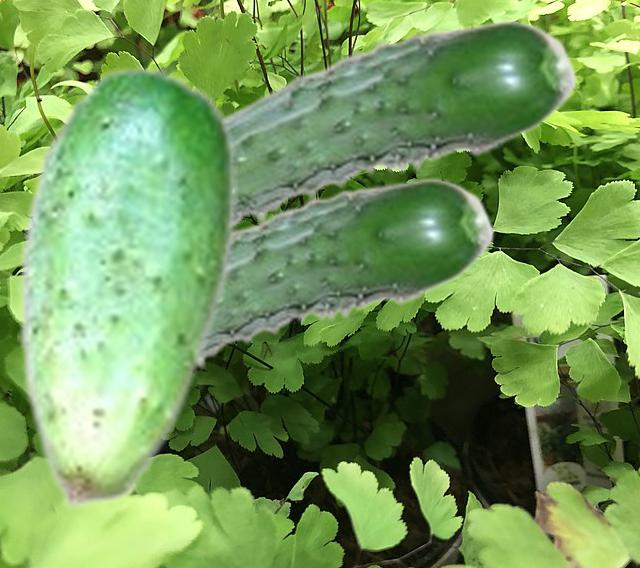cucumber: (17, 63, 236, 509), (225, 19, 578, 227), (199, 177, 495, 373)
